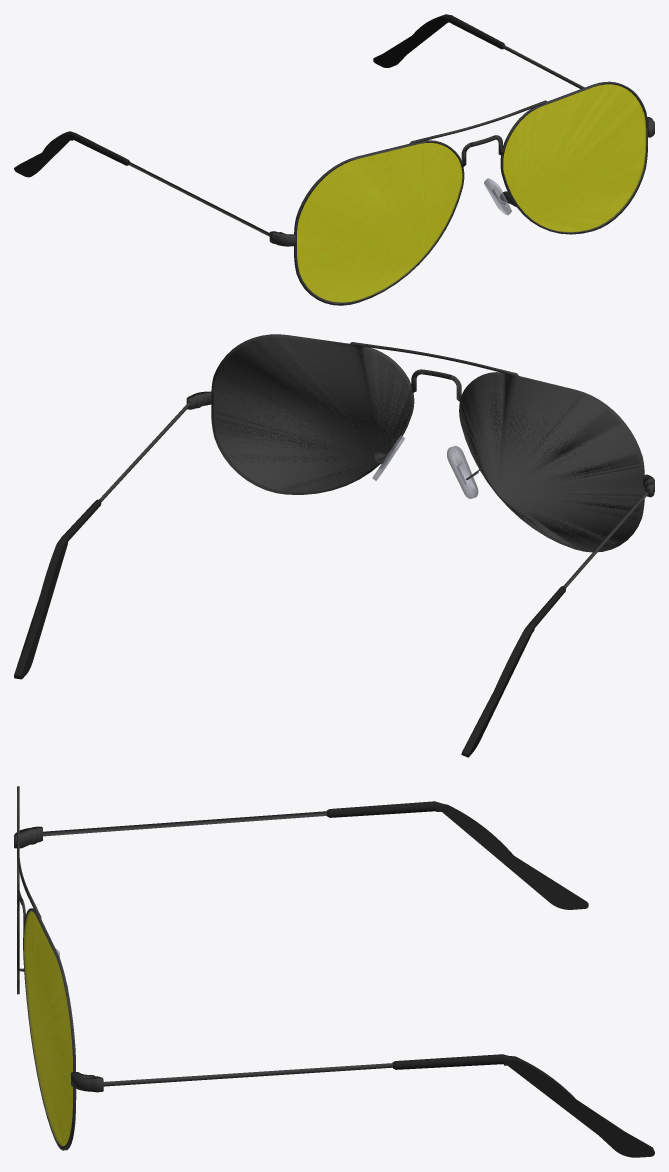
File: YellowTintAV.fbx
3 renders of one model, top to bottom at view 1: azimuth 30°, elevation 25°; view 2: azimuth 150°, elevation 25°; view 3: azimuth 270°, elevation 25°, orthographic. The views are drawn at different scales.
Visible parts, largest first — view 1: Group1; view 2: Group1; view 3: Group1.
Boxes of the visible parts, x1,y1,x2,y2 form: Group1: [14, 14, 654, 305]; Group1: [14, 334, 654, 757]; Group1: [14, 786, 654, 1157].
Bounding box in the file's own units: 233 × 74.84 × 222.
